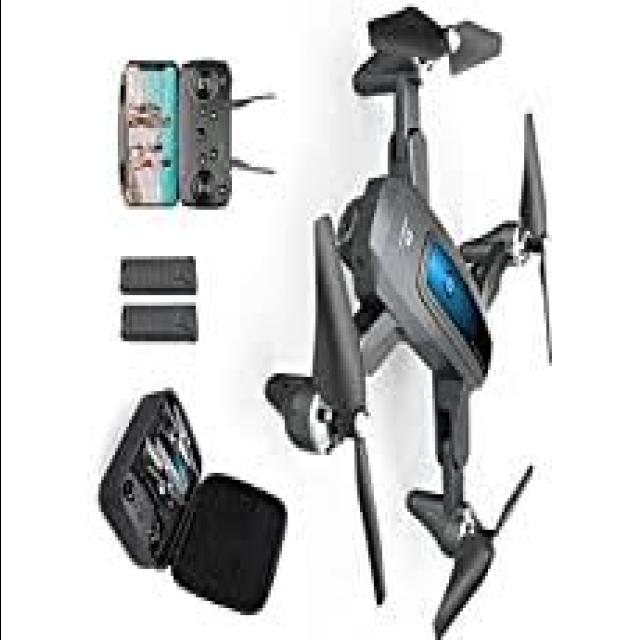drone: (248, 11, 580, 640)
